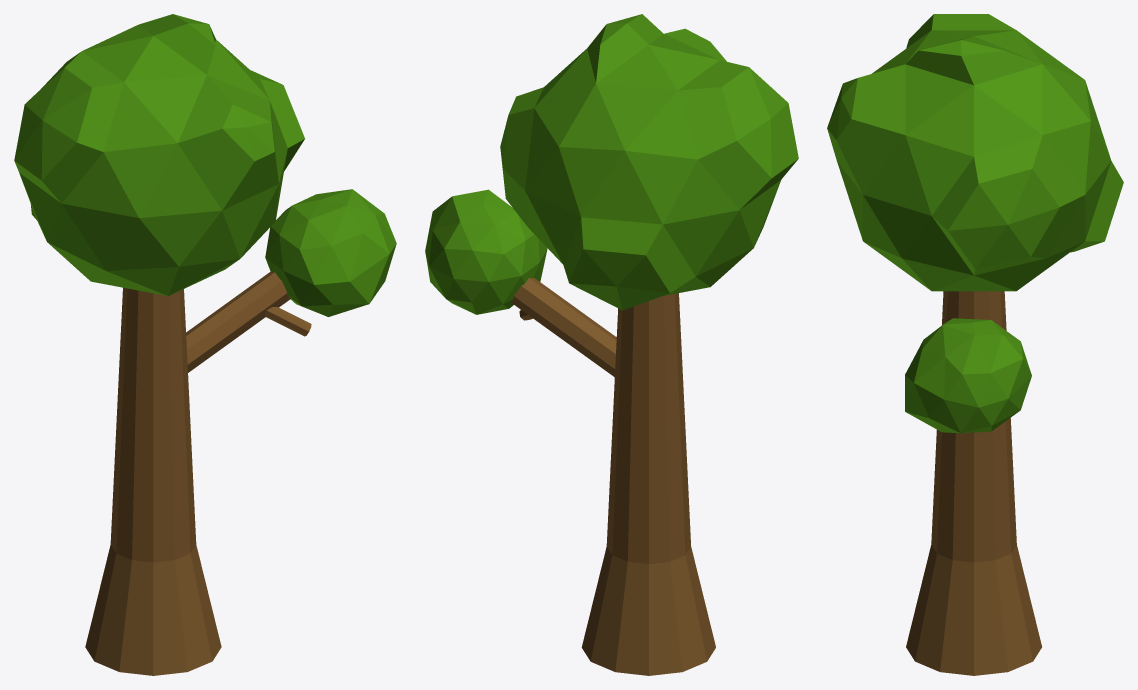
The model's file is SM_LeafTree1.fbx.
The picture shows the model from 3 angles, left to right: view 1: azimuth 30°, elevation 25°; view 2: azimuth 150°, elevation 25°; view 3: azimuth 270°, elevation 25°; orthographic projection.
Visible parts, largest first — view 1: SM_LeafTree1; view 2: SM_LeafTree1; view 3: SM_LeafTree1.
Part boxes in pixels (box(x1,y1,x2,y2)): SM_LeafTree1: box(14, 14, 396, 675); SM_LeafTree1: box(425, 14, 798, 675); SM_LeafTree1: box(827, 14, 1123, 675).
Size of the model in its own units: 734 by 1210 by 524.
